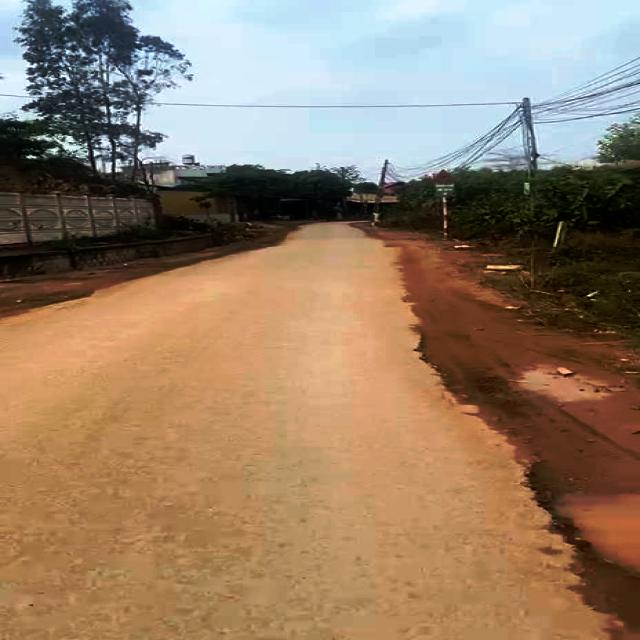pothole: (513, 457, 640, 591)
